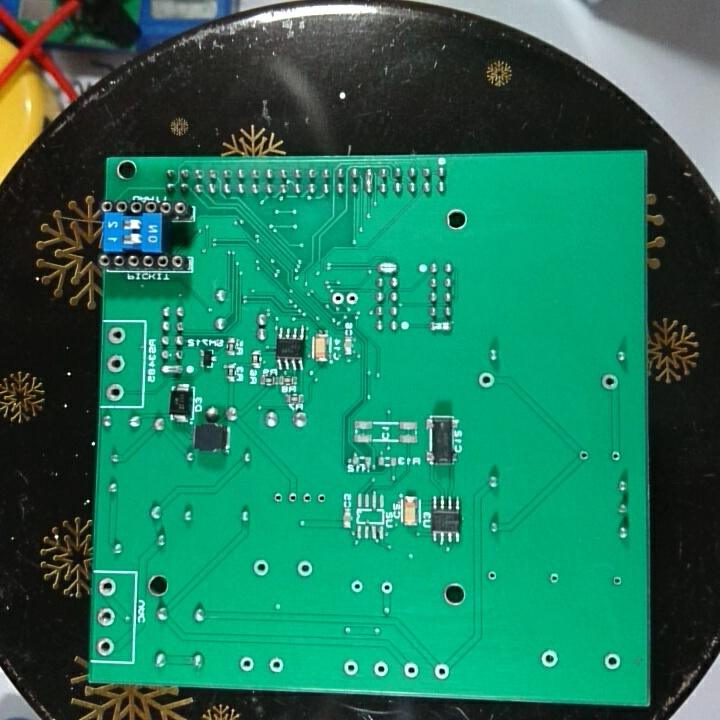F: (105, 323, 127, 348), (105, 353, 128, 376), (96, 574, 117, 599), (431, 660, 453, 683), (538, 648, 561, 669), (103, 383, 127, 403), (599, 371, 619, 394), (93, 635, 113, 658), (95, 606, 115, 629), (294, 558, 313, 581), (251, 558, 272, 578), (266, 655, 284, 677), (401, 660, 420, 680), (371, 659, 388, 681), (342, 658, 360, 678), (476, 371, 495, 389), (347, 577, 364, 597), (378, 579, 394, 598), (237, 655, 253, 672), (344, 289, 358, 308), (329, 290, 344, 307), (485, 568, 501, 583), (270, 490, 285, 506), (287, 489, 300, 507), (603, 650, 615, 669), (610, 574, 624, 589), (315, 490, 327, 507), (576, 448, 590, 462), (547, 572, 561, 586), (609, 447, 621, 463), (301, 492, 313, 506)
P: (428, 318, 452, 335), (158, 361, 185, 376), (376, 260, 401, 274), (362, 166, 374, 194)
